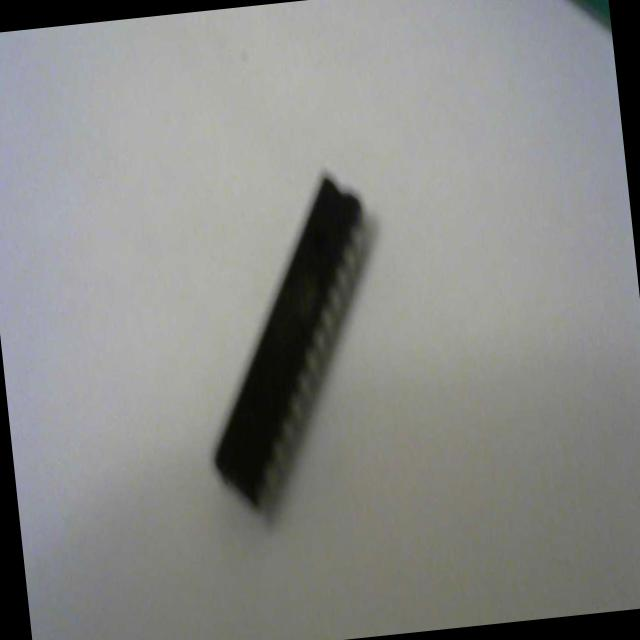atmega: (181, 164, 405, 525)
